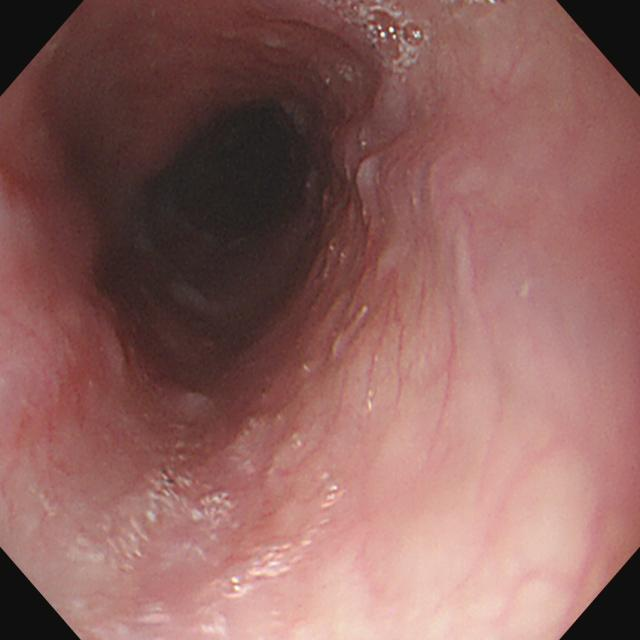A: (326, 83, 415, 308)
E: (139, 86, 316, 271)
J: (85, 462, 234, 571)
T: (224, 484, 343, 599), (331, 2, 430, 72)
